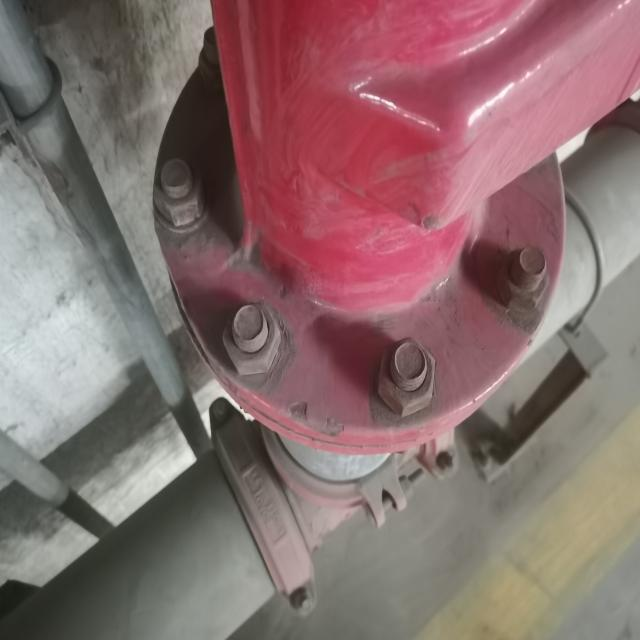blur bolt: (293, 586, 316, 616), (439, 448, 459, 474), (212, 398, 230, 422)
bolt nut: (373, 334, 439, 420), (220, 296, 284, 378), (149, 155, 209, 229), (494, 244, 551, 315)
